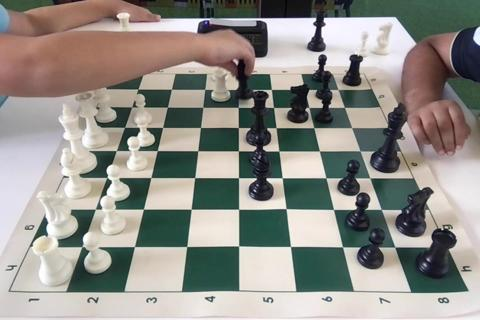xcorner: (332, 83, 345, 96), (265, 83, 278, 96), (198, 83, 211, 96), (131, 83, 144, 96), (346, 121, 359, 134), (308, 121, 321, 134), (270, 121, 283, 134), (232, 121, 245, 134), (194, 121, 207, 134), (156, 121, 169, 134), (354, 144, 367, 157), (313, 144, 326, 157), (232, 144, 245, 157), (191, 144, 204, 157), (150, 144, 163, 157), (364, 171, 377, 184), (320, 171, 333, 184), (276, 171, 289, 184), (232, 171, 245, 184), (188, 171, 201, 184), (144, 171, 157, 184), (100, 171, 113, 184), (375, 202, 388, 215), (327, 202, 340, 215), (232, 202, 245, 215), (180, 240, 193, 253), (128, 240, 141, 253), (76, 240, 89, 253), (299, 83, 311, 96), (232, 83, 244, 96), (165, 83, 177, 96), (303, 101, 316, 113), (267, 101, 280, 113), (232, 101, 245, 113), (196, 101, 209, 113), (125, 101, 138, 113), (118, 121, 130, 134), (273, 144, 285, 157), (110, 144, 122, 157), (280, 202, 292, 215), (184, 203, 197, 215), (89, 203, 102, 215), (388, 240, 401, 252), (336, 240, 349, 252), (284, 240, 297, 252), (232, 240, 245, 252), (339, 101, 351, 113), (161, 101, 173, 113), (137, 203, 149, 215)
